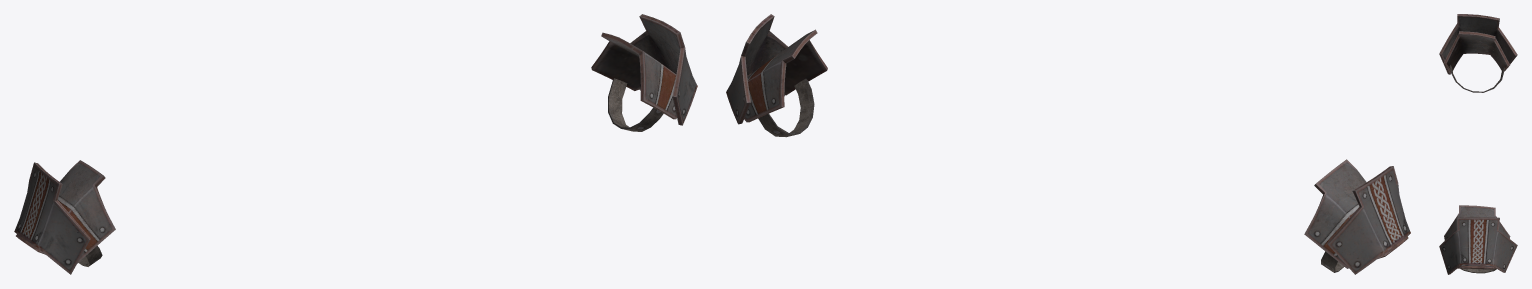
The model's file is sk_dwarf_iron_bracer_med_c1.fbx.
3 views of the same model, side by side, from view 1: azimuth 30°, elevation 25°; view 2: azimuth 150°, elevation 25°; view 3: azimuth 270°, elevation 25° (orthographic). The views are drawn at different scales.
Visible parts, largest first — view 1: sk_dwarf_iron_bracer_med_c1; view 2: sk_dwarf_iron_bracer_med_c1; view 3: sk_dwarf_iron_bracer_med_c1.
Boxes of the visible parts, left/top/right/bottom form: sk_dwarf_iron_bracer_med_c1: left=14, top=14, right=697, bottom=274; sk_dwarf_iron_bracer_med_c1: left=726, top=14, right=1410, bottom=274; sk_dwarf_iron_bracer_med_c1: left=1439, top=14, right=1517, bottom=274.
Size of the model in its own units: 1.2 by 0.1833 by 0.1725.
1 material, 1 textured.
